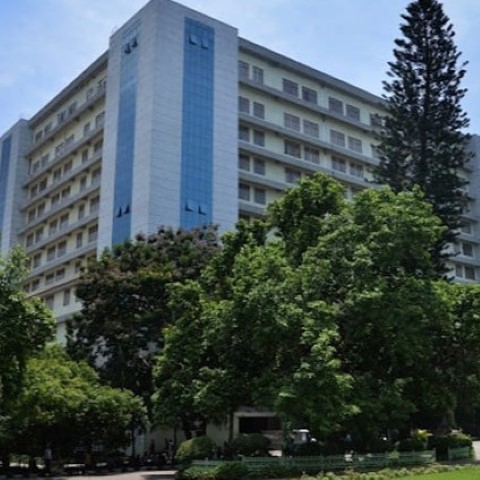Central Block: (3, 3, 480, 308)
